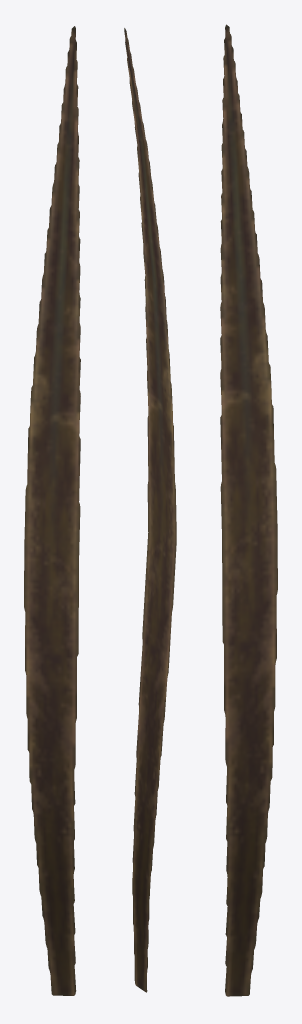
The model's file is SM_grass_blade_02.fbx.
3 views of the same model, side by side, from view 1: azimuth 90°, elevation 25°; view 2: azimuth 210°, elevation 25°; view 3: azimuth 270°, elevation 25° (orthographic).
Parts seen in each view (by area): view 1: SM_grass_blade_02; view 2: SM_grass_blade_02; view 3: SM_grass_blade_02.
Boxes of the visible parts, x1,y1,x2,y2 form: SM_grass_blade_02: (24, 26, 80, 995); SM_grass_blade_02: (124, 28, 176, 992); SM_grass_blade_02: (220, 24, 277, 996).
Size of the model in its own units: 1.06 by 2.41 by 34.39.
